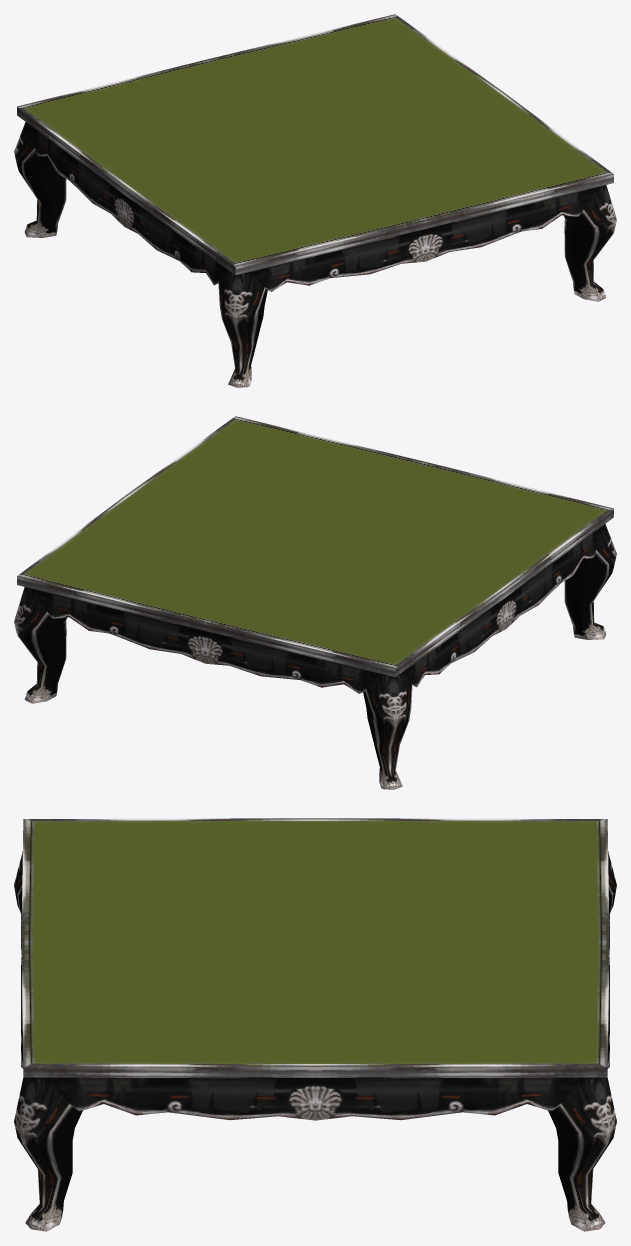
File: furni_0201214_03.FBX
3 views of the same model, one above another, from view 1: azimuth 30°, elevation 25°; view 2: azimuth 150°, elevation 25°; view 3: azimuth 270°, elevation 25° (orthographic). The views are drawn at different scales.
Parts seen in each view (by area): view 1: furni_0201214_03; view 2: furni_0201214_03; view 3: furni_0201214_03.
Part boxes in pixels (x1,y1,x2,y2): furni_0201214_03: [14, 14, 616, 387]; furni_0201214_03: [14, 416, 616, 789]; furni_0201214_03: [14, 818, 616, 1231].
Bounding box in the file's own units: 164 × 49.99 × 164.
